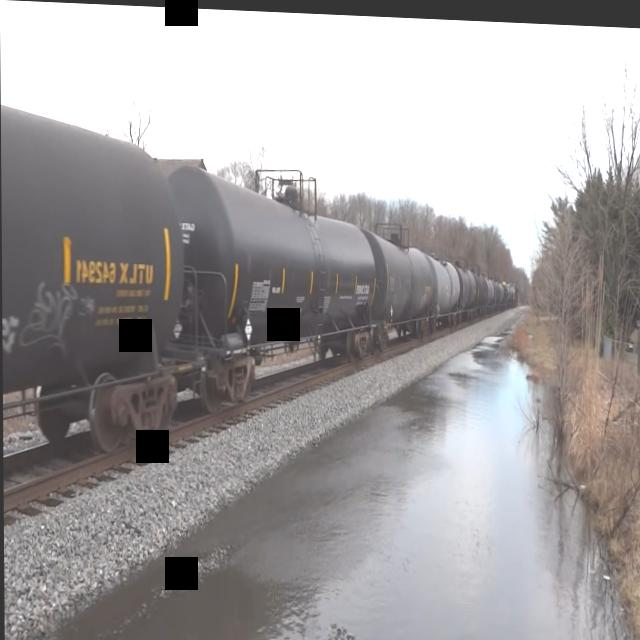tank: (1, 58, 196, 497), (159, 150, 384, 421), (362, 217, 437, 350)
